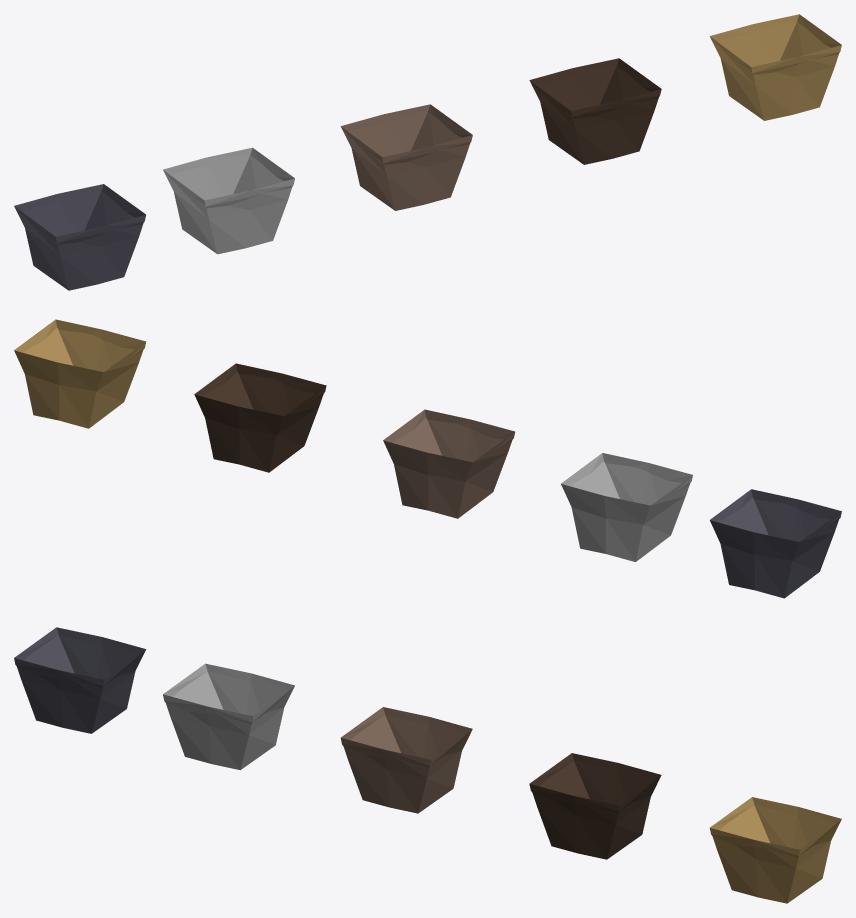
File: trastes pequeños.fbx
3 renders of one model, top to bottom at view 1: azimuth 30°, elevation 25°; view 2: azimuth 150°, elevation 25°; view 3: azimuth 330°, elevation 25°, orthographic.
Parts seen in each view (by area): view 1: pasted__pasted__pCube5, pasted__pasted__pCube9, pasted__pasted__pCube6, pasted__pasted__pCube7, pasted__pasted__pCube8; view 2: pasted__pasted__pCube9, pasted__pasted__pCube6, pasted__pasted__pCube8, pasted__pasted__pCube7, pasted__pasted__pCube5; view 3: pasted__pasted__pCube5, pasted__pasted__pCube8, pasted__pasted__pCube9, pasted__pasted__pCube6, pasted__pasted__pCube7.
Part boxes in pixels (x1,y1,x2,y2): pasted__pasted__pCube5: [14, 184, 145, 290]; pasted__pasted__pCube9: [709, 14, 841, 120]; pasted__pasted__pCube6: [163, 147, 294, 254]; pasted__pasted__pCube7: [340, 104, 472, 210]; pasted__pasted__pCube8: [529, 58, 661, 164]; pasted__pasted__pCube9: [14, 319, 146, 428]; pasted__pasted__pCube6: [561, 453, 692, 561]; pasted__pasted__pCube8: [194, 363, 326, 472]; pasted__pasted__pCube7: [383, 409, 515, 518]; pasted__pasted__pCube5: [710, 489, 841, 598]; pasted__pasted__pCube5: [14, 627, 146, 733]; pasted__pasted__pCube8: [529, 753, 661, 859]; pasted__pasted__pCube9: [709, 797, 841, 903]; pasted__pasted__pCube6: [163, 663, 294, 770]; pasted__pasted__pCube7: [340, 707, 472, 813].
Bounding box in the file's own units: 12.31 × 0.9333 × 1.22.
